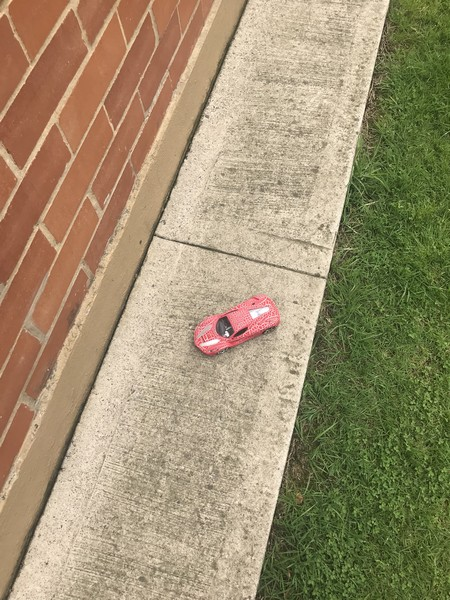RC: (192, 293, 281, 356)
